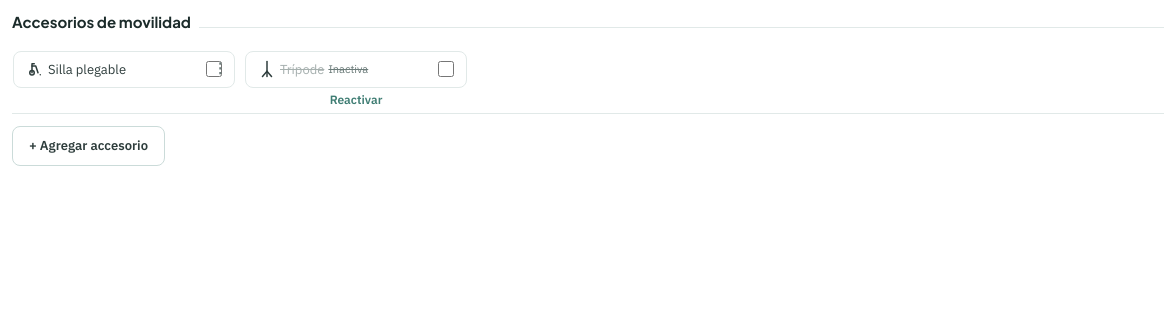
Test: AccesoriosMovilidadSelector › duplicado: muestra el error accionable del repository bajo el form y el form sigue abierto
This screenshot has width=1176, height=309.
Click the button "+ Agregar accesorio". click: (88, 146)
box: [12, 126, 165, 166]
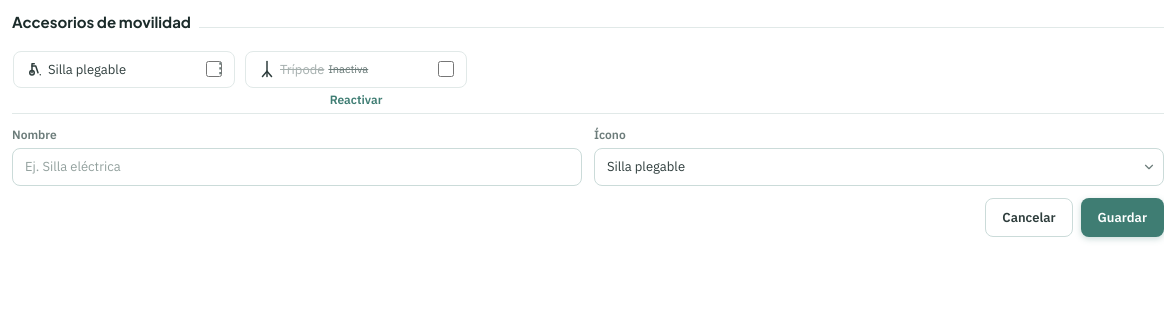
Type "silla-plegable" into the field labelled "Nombre". click: (297, 167)
box: [12, 148, 582, 186]
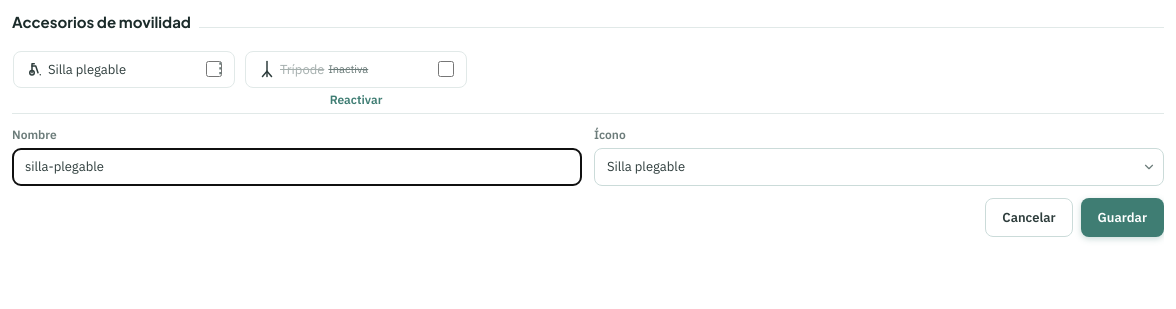
Click the button "Guardar". click: (1122, 217)
box: [1081, 198, 1164, 237]
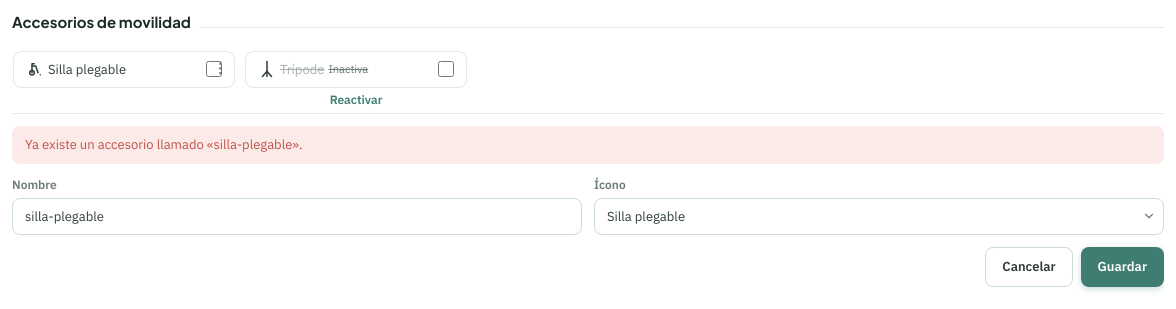
Expected: the text "Ya existe un accesorio llamado «silla-plegable»." is shown, [12, 126, 1164, 164]
